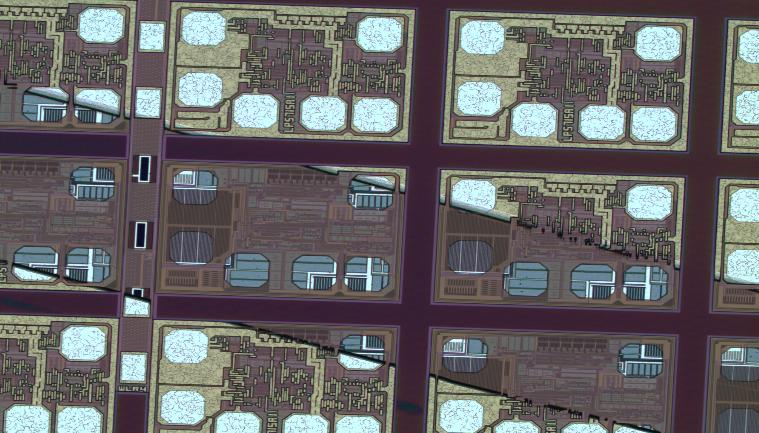COATING BAD: (1, 75, 759, 433)
